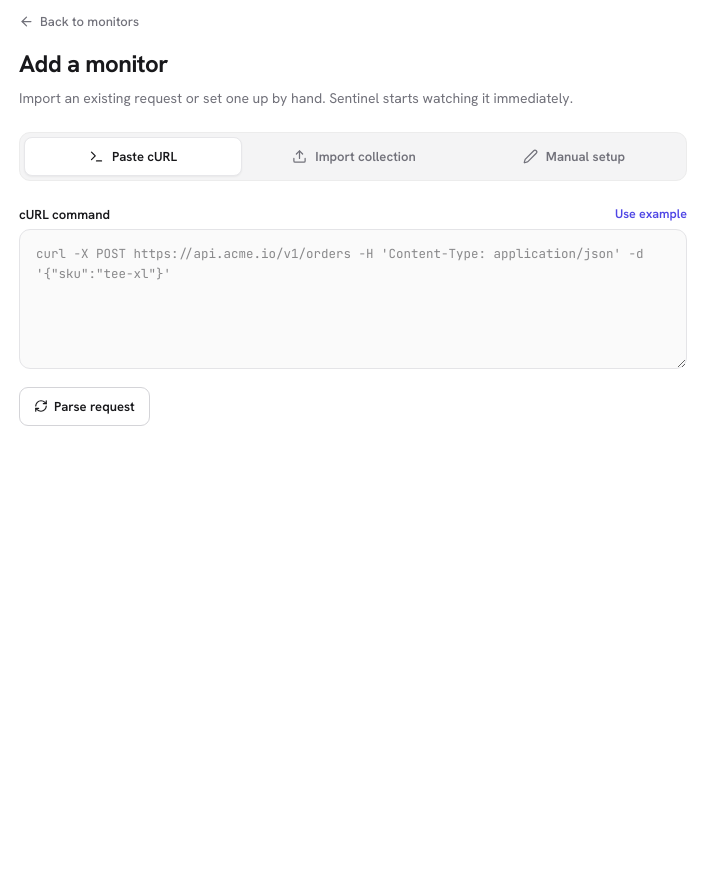
Test: add monitor — paste cURL › shows a toast when parsing fails
Type "not a curl" into the text box with placeholder "curl" at (353, 298), box left=19, top=228, right=687, bottom=368
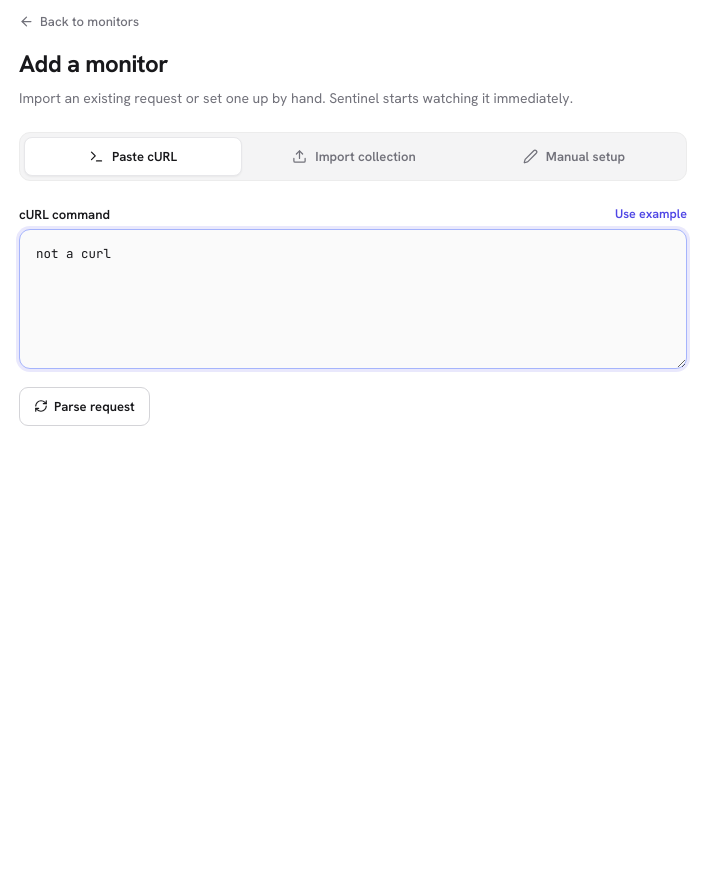
Click the button "Parse request" at (84, 406), box left=19, top=386, right=150, bottom=426
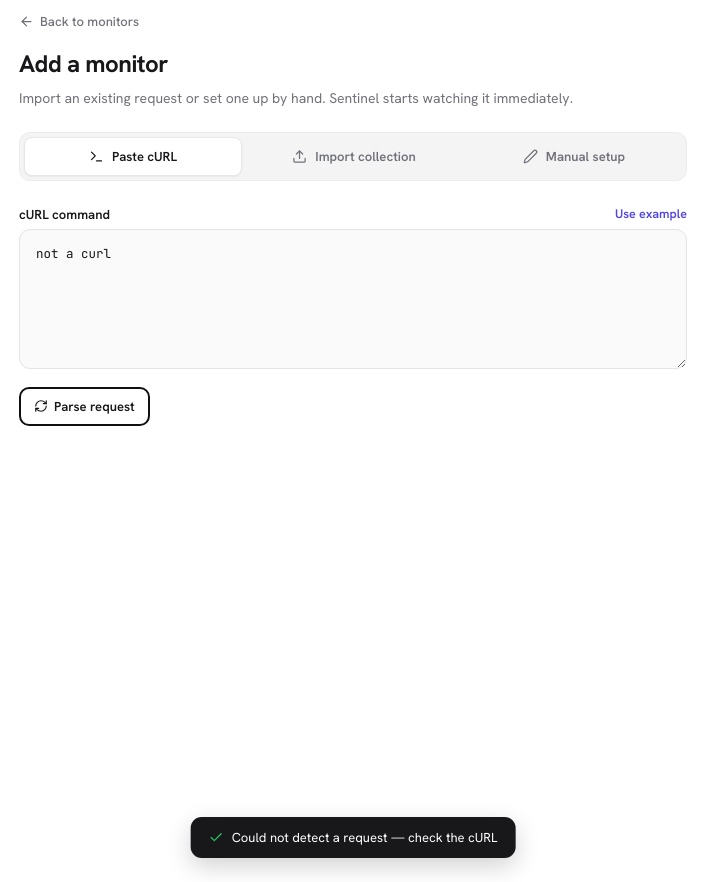
expect the text "Could not detect a request — check the cURL" is shown: met, box left=191, top=816, right=515, bottom=858
